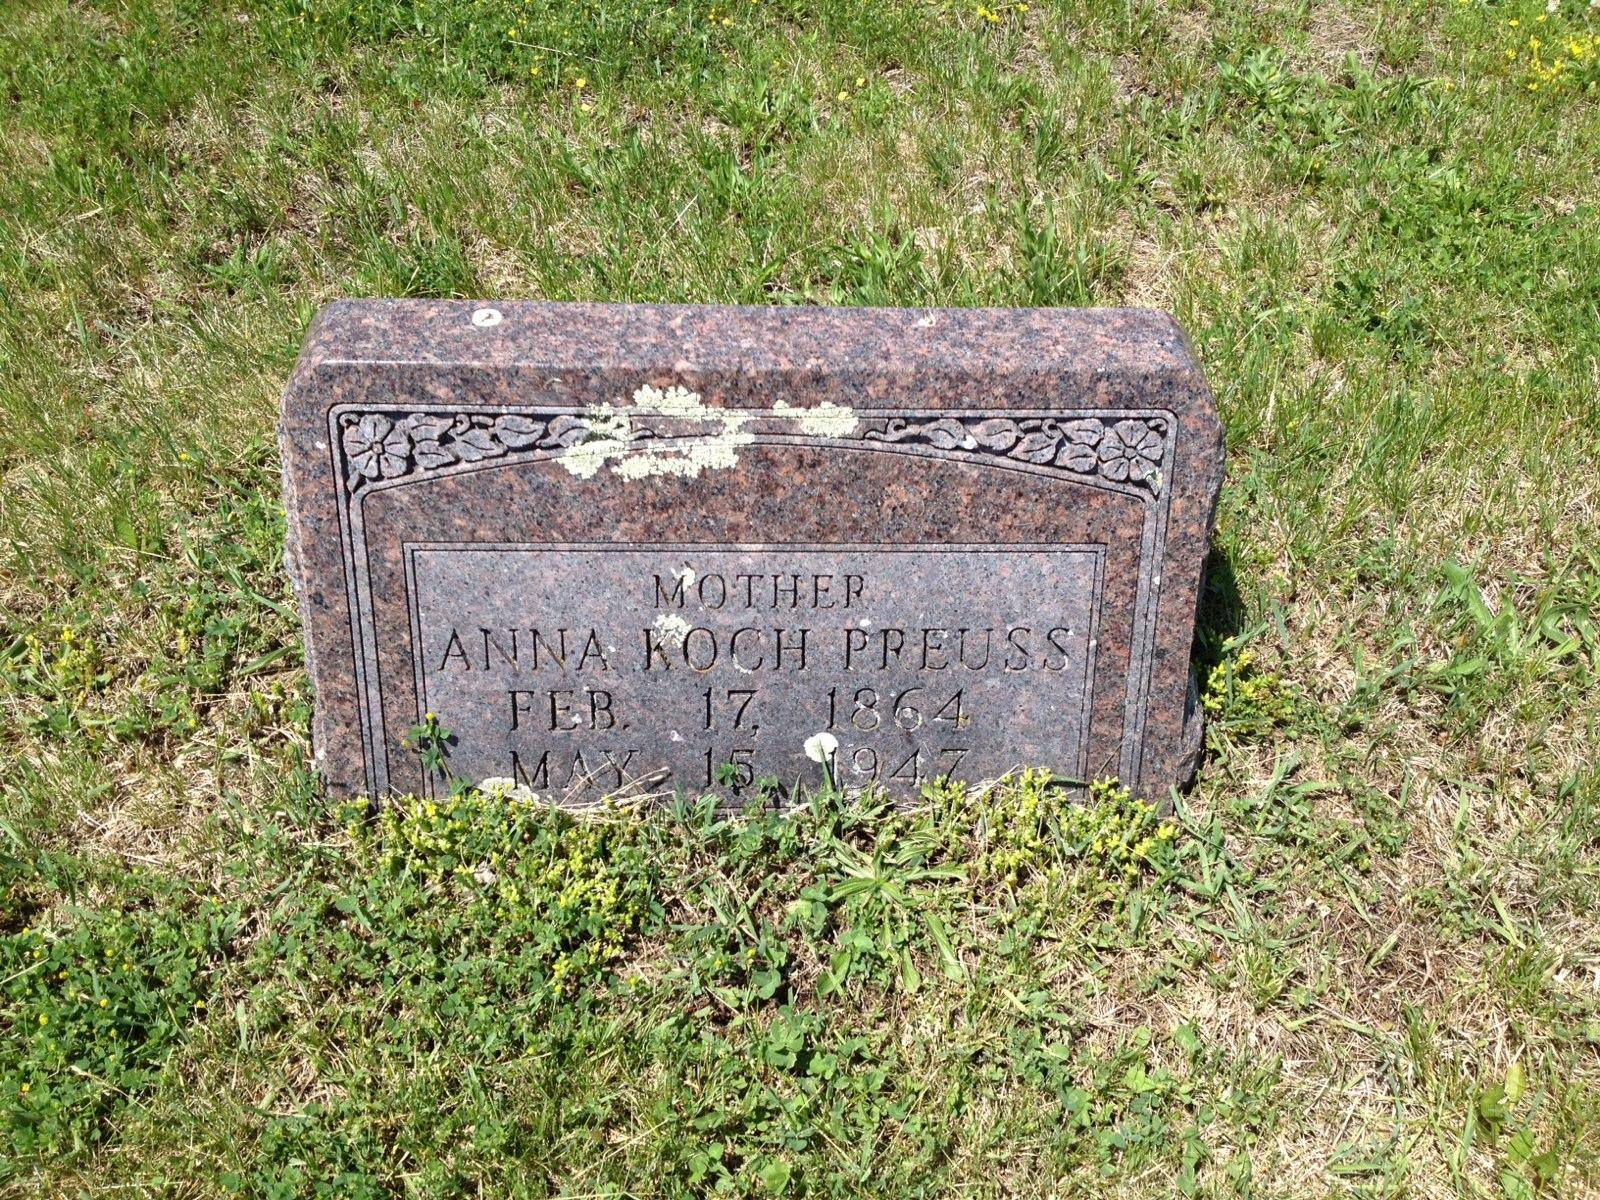upright: (265, 292, 1232, 811)
